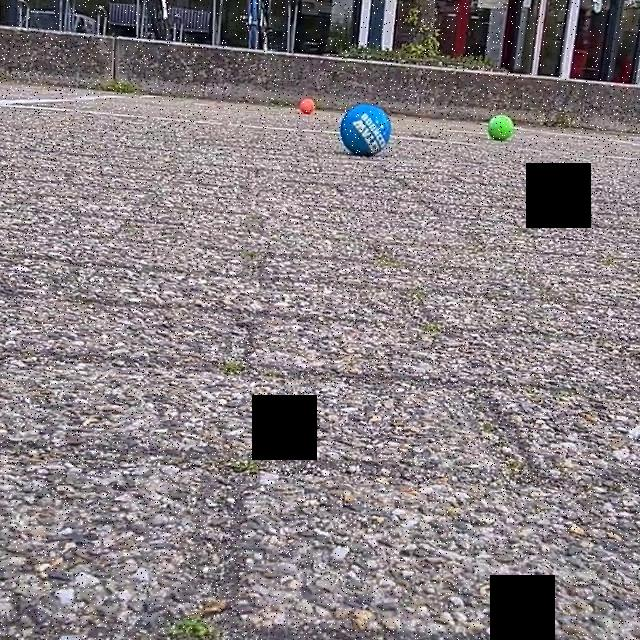ball: (485, 113, 516, 144)
